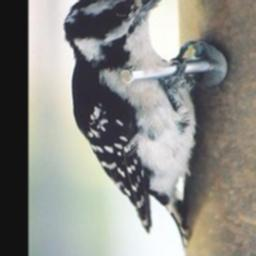Woodpecker: (63, 0, 206, 248)
